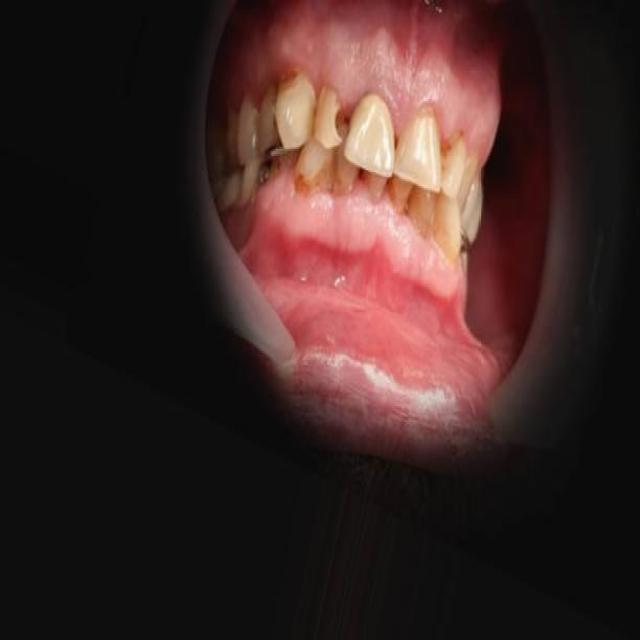caries: (315, 75, 356, 168), (250, 137, 292, 201), (292, 150, 343, 201)
